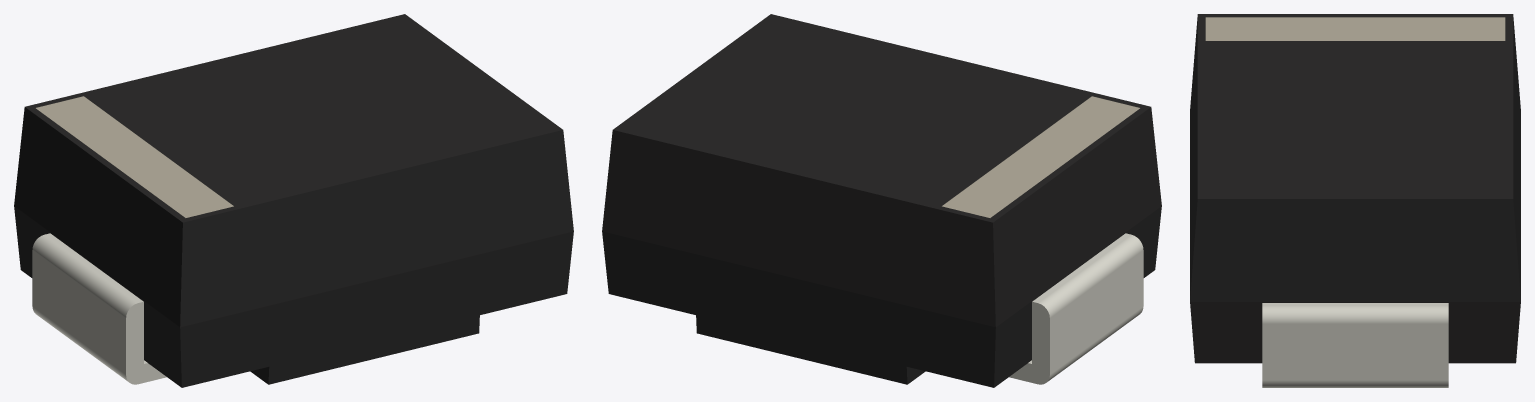
File: D_SMB.glb
3 renders of one model, left to right at view 1: azimuth 30°, elevation 25°; view 2: azimuth 150°, elevation 25°; view 3: azimuth 270°, elevation 25°, orthographic.
Visible parts, largest first — view 1: =>[0:1:1:3]; view 2: =>[0:1:1:3]; view 3: =>[0:1:1:3].
Boxes of the visible parts, x1,y1,x2,y2 form: =>[0:1:1:3]: [14, 14, 573, 387]; =>[0:1:1:3]: [602, 14, 1161, 387]; =>[0:1:1:3]: [1190, 14, 1520, 387].
Bounding box in the file's own units: 0.0053 × 0.00215 × 0.00355.
